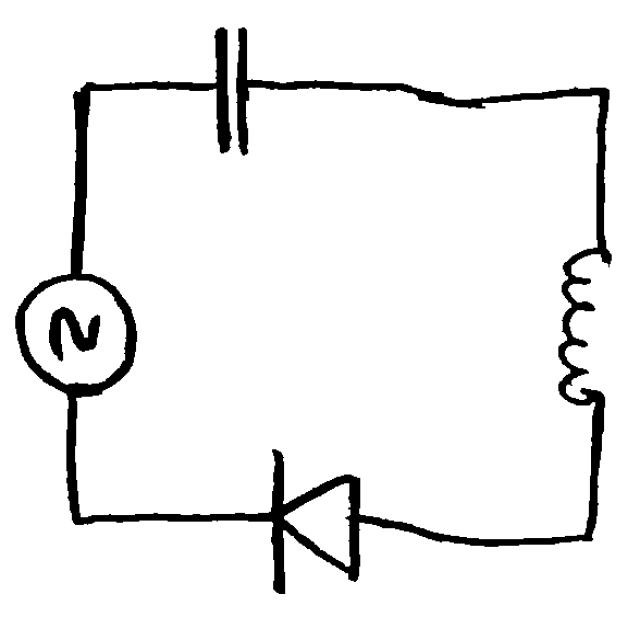ac: (10, 262, 146, 405)
capacitor: (194, 10, 272, 170)
diode: (250, 433, 375, 609)
inductor: (534, 234, 628, 417)
